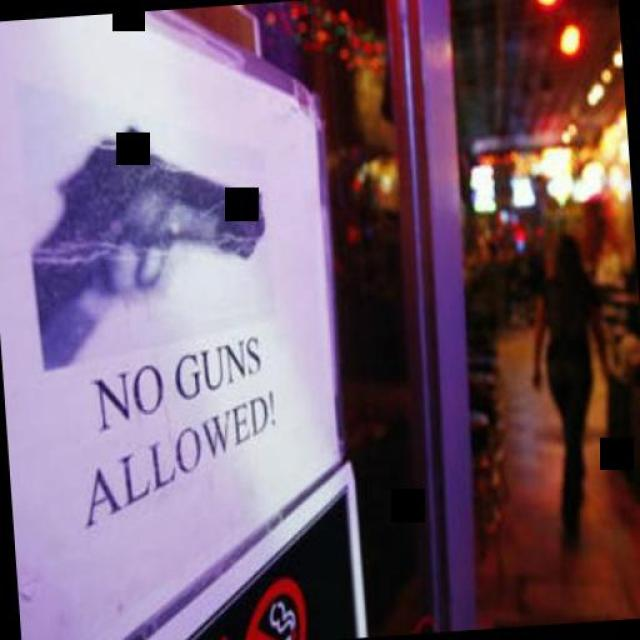gun: (18, 111, 268, 335)
